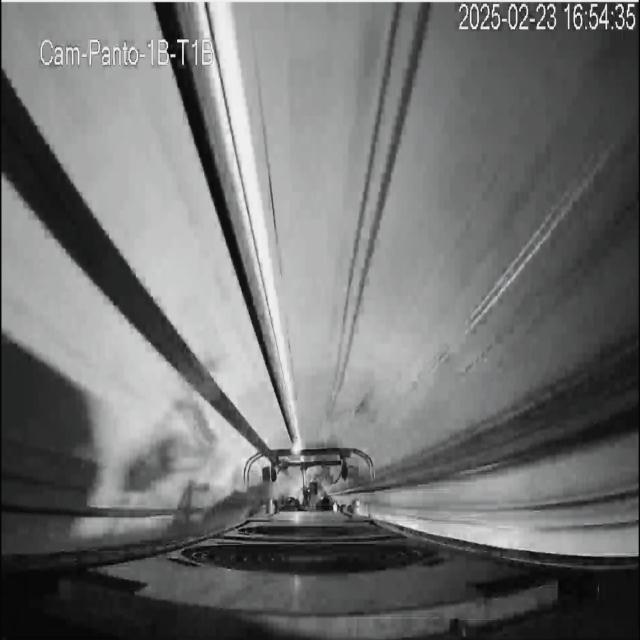Camera Stamp: (38, 33, 216, 69)
Date Stamp: (458, 3, 637, 33)
Sparks: (291, 442, 310, 470)
